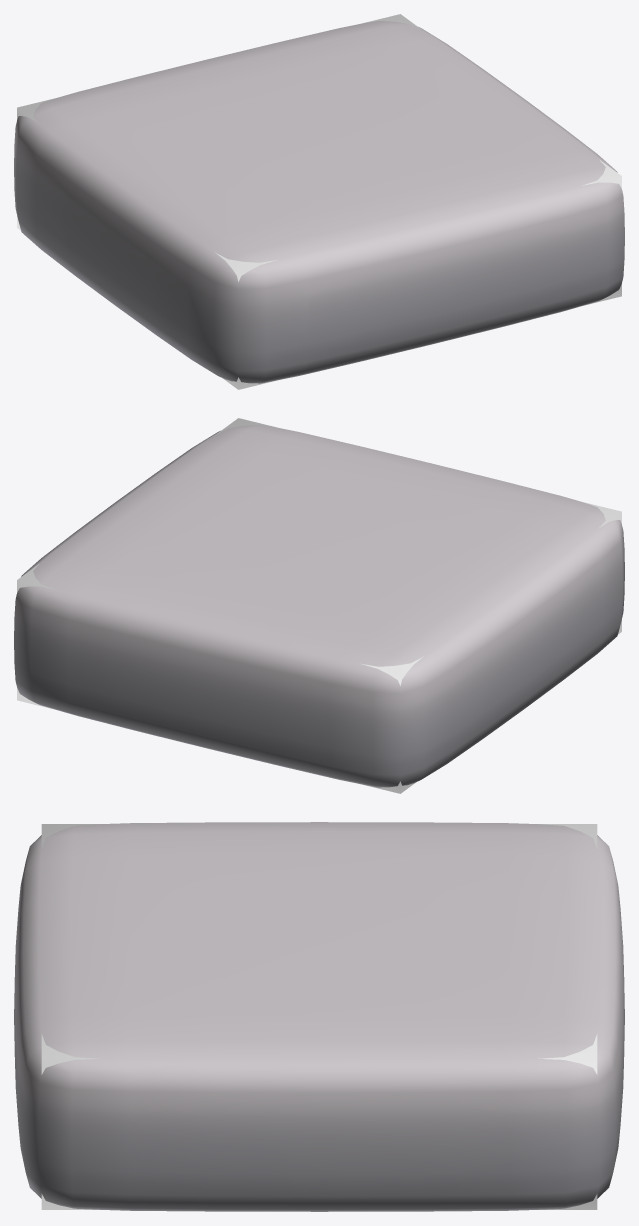
Rendered from SlabNormal.glb.
3 views of the same model, one above another, from view 1: azimuth 30°, elevation 25°; view 2: azimuth 150°, elevation 25°; view 3: azimuth 270°, elevation 25° (orthographic). The views are drawn at different scales.
Visible parts, largest first — view 1: SlabNormal, colision-colonly.018; view 2: SlabNormal, colision-colonly.018; view 3: SlabNormal, colision-colonly.018.
Part boxes in pixels (x1,y1,x2,y2): SlabNormal: (14,20,624,383); colision-colonly.018: (17,14,621,389); SlabNormal: (14,424,624,787); colision-colonly.018: (17,418,621,793); SlabNormal: (14,822,624,1211); colision-colonly.018: (41,824,597,1209).
Bounding box in the file's own units: 1.98 × 0.5951 × 1.98.
Materials: 1 (1 with a texture image).
